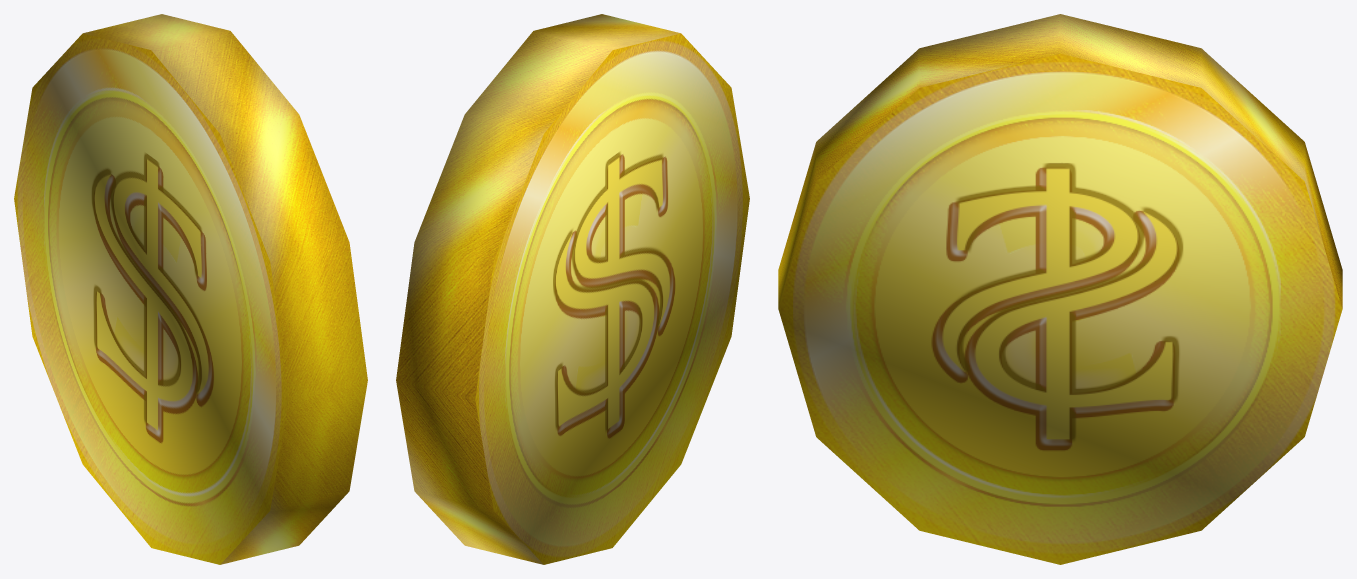
Rendered from Coin.FBX.
The picture shows the model from 3 angles, left to right: view 1: azimuth 30°, elevation 25°; view 2: azimuth 150°, elevation 25°; view 3: azimuth 270°, elevation 25°; orthographic projection. The views are drawn at different scales.
Parts seen in each view (by area): view 1: Coin; view 2: Coin; view 3: Coin.
Part boxes in pixels (x1,y1,x2,y2): Coin: [14, 14, 367, 564]; Coin: [396, 14, 749, 564]; Coin: [778, 14, 1342, 564].
Size of the model in its own units: 0.8065 by 4.84 by 4.84.
